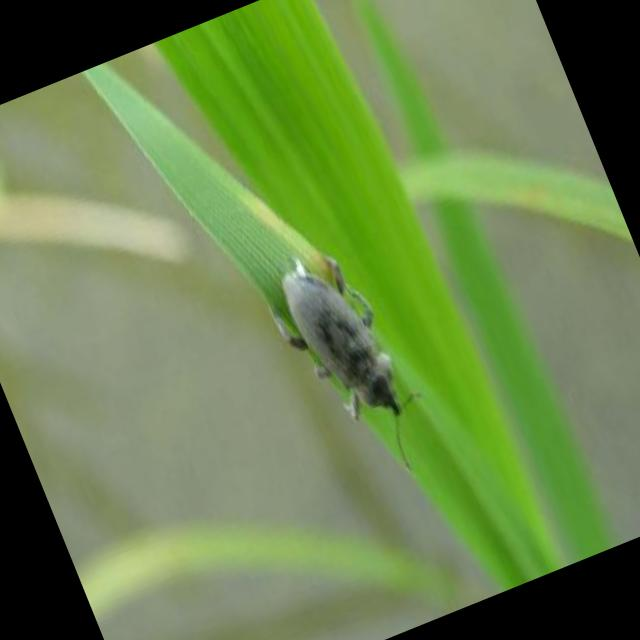rice-bug: (249, 230, 412, 438)
